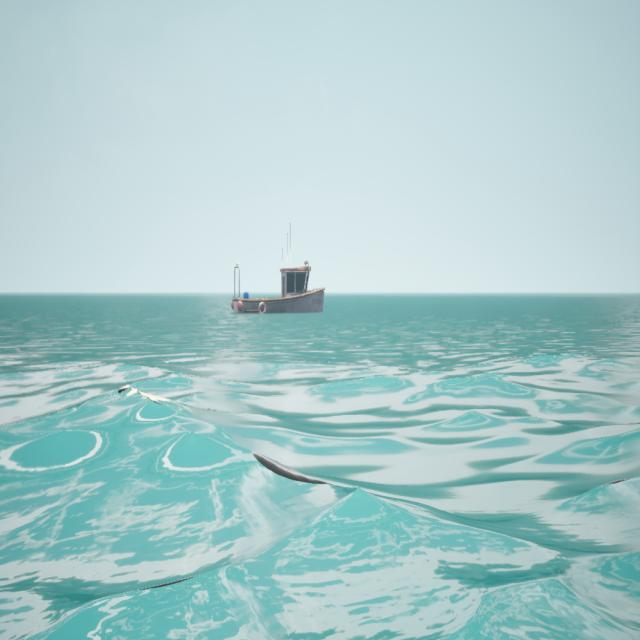ship: (221, 213, 329, 338)
